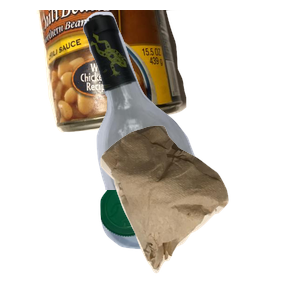glass: (81, 10, 300, 190)
metal: (34, 10, 213, 135)
plastic: (98, 176, 266, 300)
trash: (98, 123, 300, 300)
